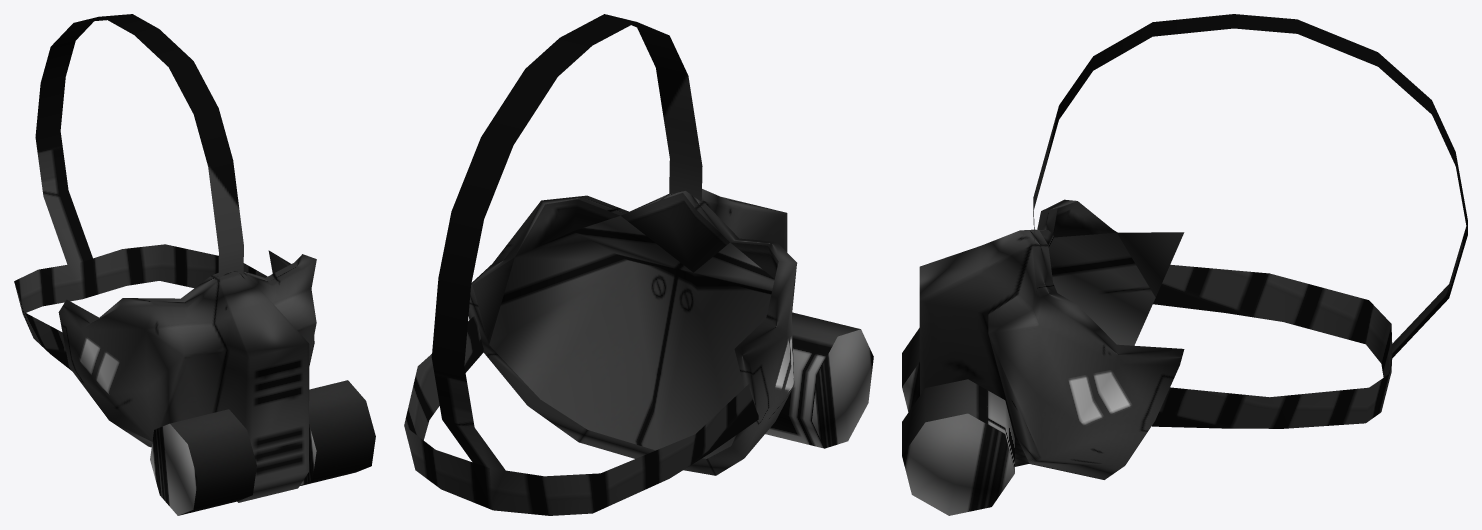
File: mod_gear_face02.fbx
The picture shows the model from 3 angles, left to right: view 1: azimuth 30°, elevation 25°; view 2: azimuth 150°, elevation 25°; view 3: azimuth 270°, elevation 25°; orthographic projection. The views are drawn at different scales.
Parts seen in each view (by area): view 1: mod_gear_face02; view 2: mod_gear_face02; view 3: mod_gear_face02.
Boxes of the visible parts, x1,y1,x2,y2 form: mod_gear_face02: [14, 14, 375, 515]; mod_gear_face02: [404, 14, 873, 515]; mod_gear_face02: [902, 14, 1467, 515].
Bounding box in the file's own units: 15.63 × 24.69 × 28.54.
